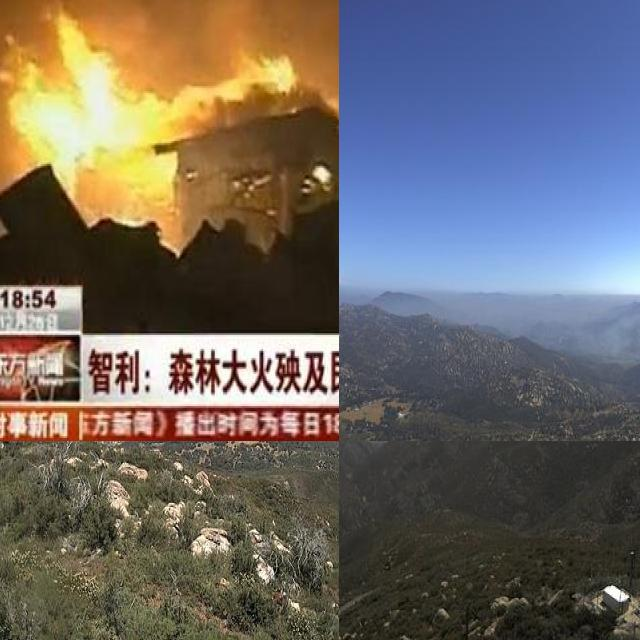fire: (3, 0, 283, 237)
smoke: (0, 0, 339, 91), (567, 311, 640, 371)
